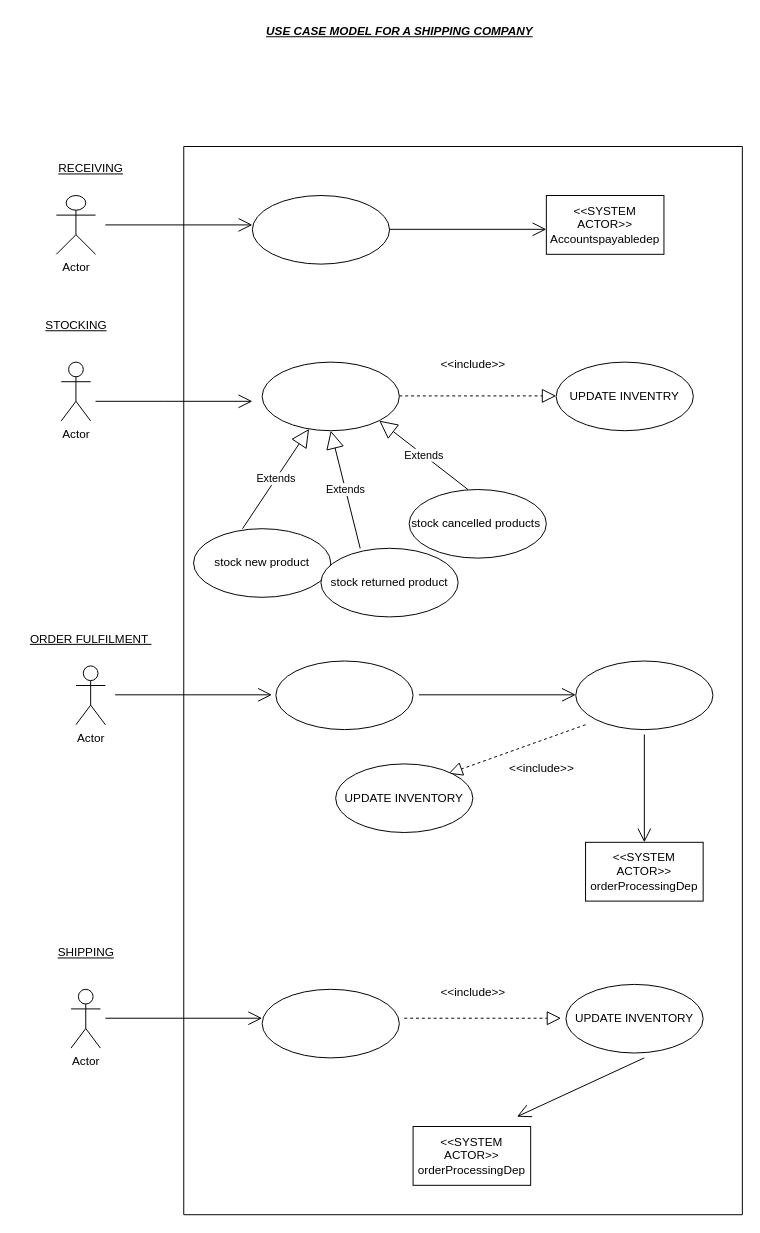
The diagram is 760 pixels wide and 1233 high, and some of its shapes have lost their labels. The centre of each missing label's shape, as x and y in pixels:
"FILL ORDER" belongs at point (644, 695).
"LOCATE PRODUCT" belongs at point (344, 695).
"RECEIVE PRODUCT" belongs at point (320, 229).
"SHIP ORDER" belongs at point (330, 1023).
"STOCK PRODUCT" belongs at point (330, 396).
